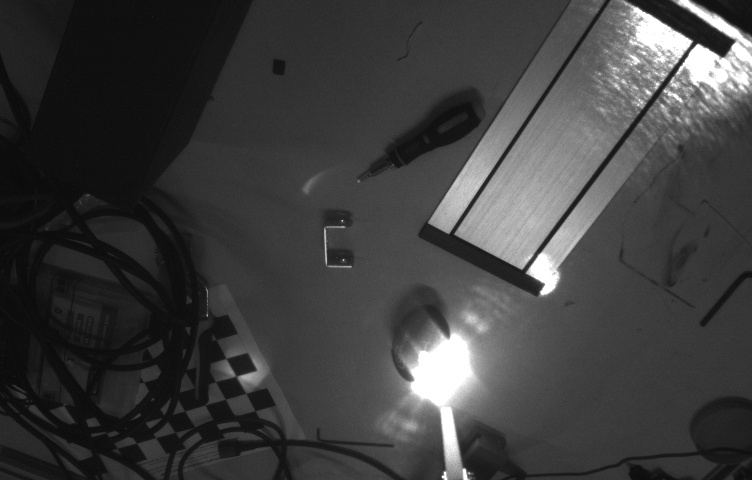Object rubber duck - Material rubber -Color blue - Pdfname BWuUnwTLudUE: (405, 323, 471, 387)
